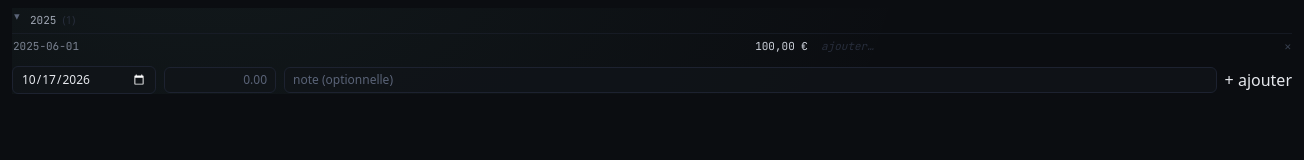
Test case: BalanceCheckpointsDrawer › maps a delete 404 to a specific "introuvable" message
The width and height of the screenshot is (1304, 160).
Click the button named "supprimer".
click(1288, 46)  # box [1284, 38, 1291, 54]
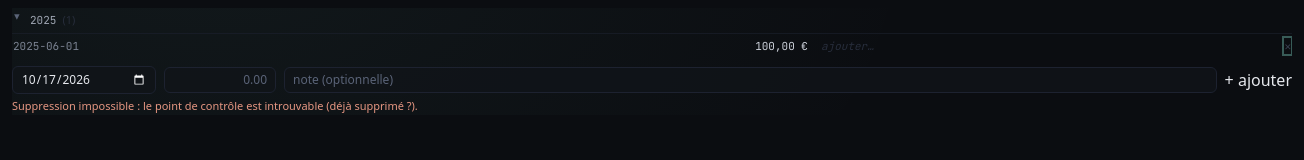
expect the text "introuvable" is shown: met, box [12, 98, 418, 113]
